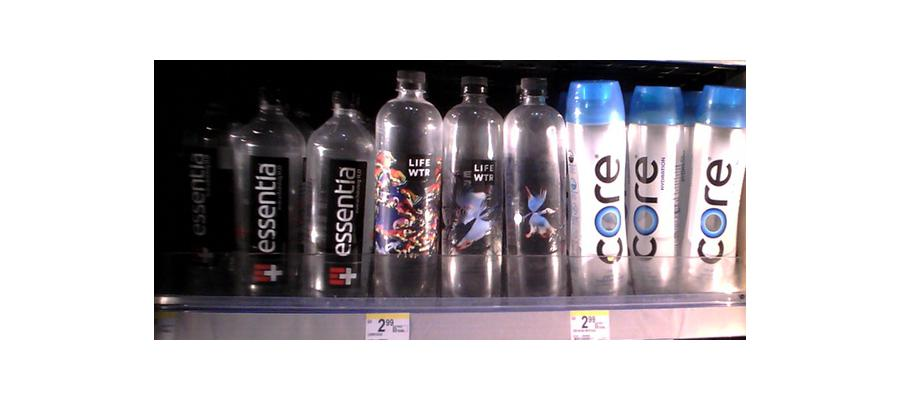bottle: (371, 63, 442, 302), (233, 81, 304, 304), (563, 76, 631, 299), (303, 89, 370, 307), (688, 78, 750, 311), (504, 75, 567, 302), (442, 73, 504, 300), (629, 83, 690, 290)
